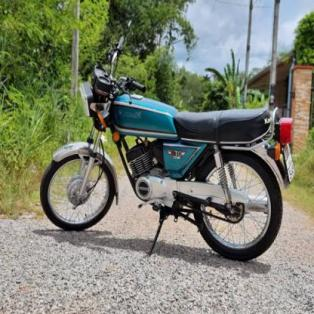Motocicleta: (37, 27, 300, 270)
